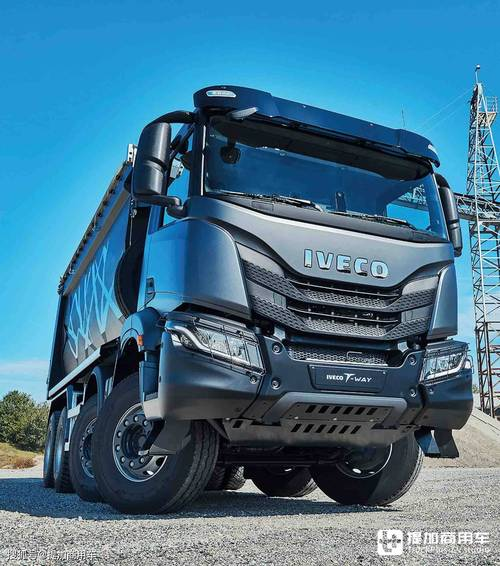卡车: (33, 78, 477, 521)
